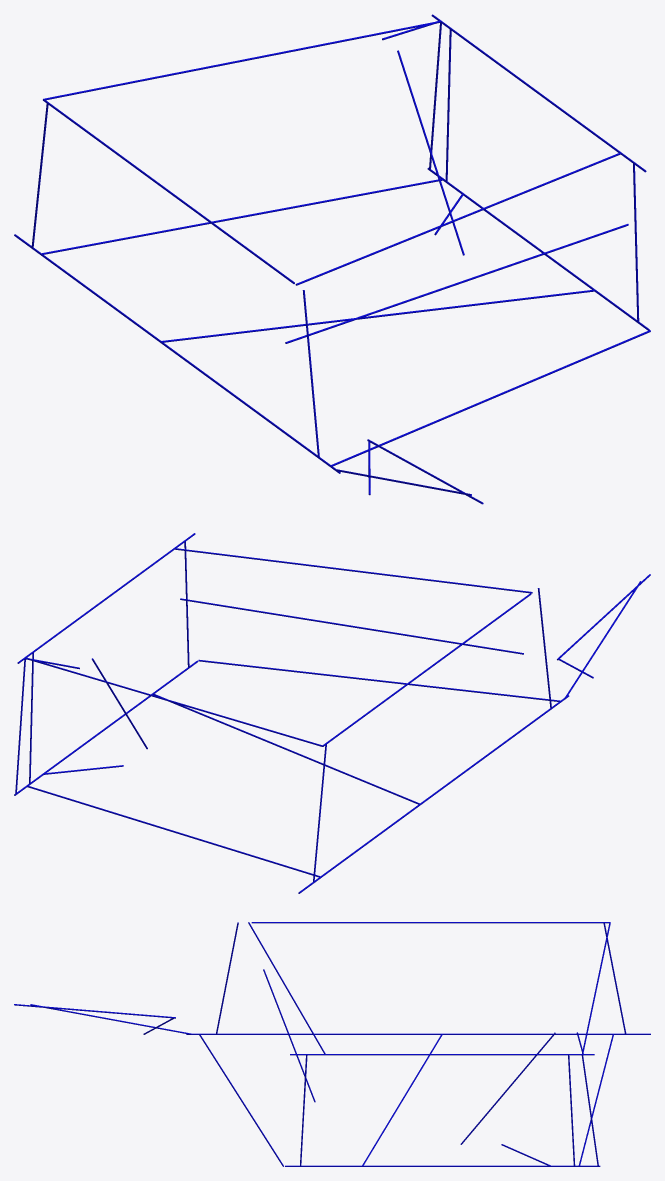
Rendered from corrected_3d_strokes.glb.
The picture shows the model from 3 angles, top to bottom: view 1: azimuth 30°, elevation 25°; view 2: azimuth 150°, elevation 25°; view 3: azimuth 270°, elevation 25°; orthographic projection. The views are drawn at different scales.
Parts seen in each view (by area): view 1: world; view 2: world; view 3: world.
Part boxes in pixels (bbox=[...]): world: bbox=[14, 14, 650, 504]; world: bbox=[14, 533, 650, 893]; world: bbox=[14, 922, 650, 1166].
Size of the model in its own units: 8.29 by 3.3 by 16.84.
